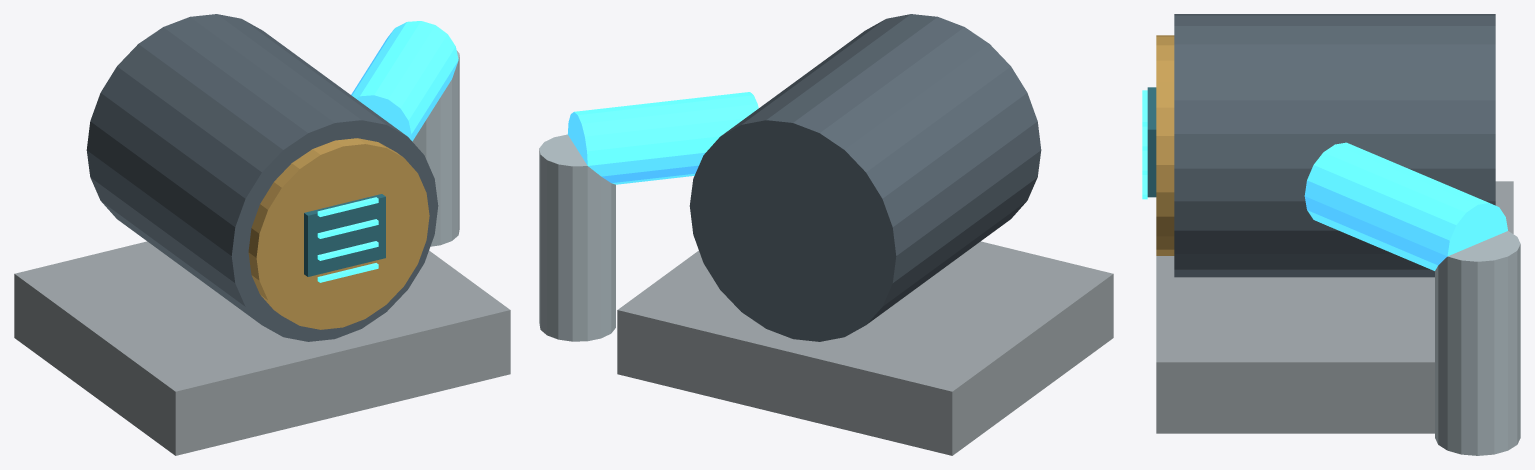
The model's file is drainage-pump.glb.
3 renders of one model, left to right at view 1: azimuth 30°, elevation 25°; view 2: azimuth 150°, elevation 25°; view 3: azimuth 270°, elevation 25°, orthographic. The views are drawn at different scales.
Parts seen in each view (by area): view 1: generator skid, turbine housing, turbine end, drainage pipe, intake pipe, glowing status panel; view 2: turbine housing, generator skid, intake pipe, drainage pipe; view 3: turbine housing, generator skid, intake pipe, drainage pipe, turbine end, glowing status panel.
Boxes of the visible parts, x1,y1,x2,y2 form: generator skid: [14, 241, 510, 455]; turbine housing: [86, 14, 438, 341]; turbine end: [248, 138, 429, 329]; drainage pipe: [351, 21, 458, 141]; intake pipe: [412, 50, 459, 246]; glowing status panel: [304, 194, 385, 276]; turbine housing: [689, 14, 1041, 341]; generator skid: [617, 241, 1113, 455]; intake pipe: [539, 134, 615, 341]; drainage pipe: [567, 92, 758, 184]; turbine housing: [1174, 14, 1495, 277]; generator skid: [1156, 181, 1513, 433]; intake pipe: [1435, 231, 1520, 455]; drainage pipe: [1304, 142, 1507, 270]; turbine end: [1156, 35, 1174, 255]; glowing status panel: [1147, 87, 1156, 197].
Size of the model in its own units: 1.52 by 0.98 by 1.06.
